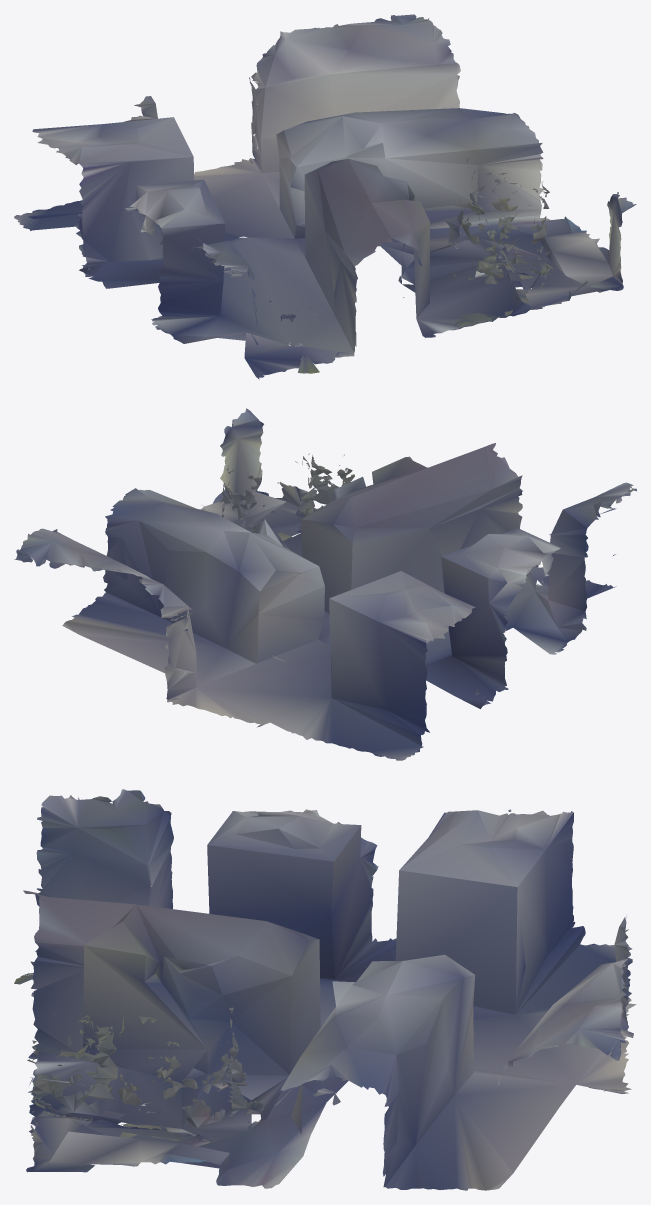
3 views of the same model, one above another, from view 1: azimuth 30°, elevation 25°; view 2: azimuth 150°, elevation 25°; view 3: azimuth 270°, elevation 25° (orthographic). The views are drawn at different scales.
Bounding box in the file's own units: 104 × 29.35 × 106.
